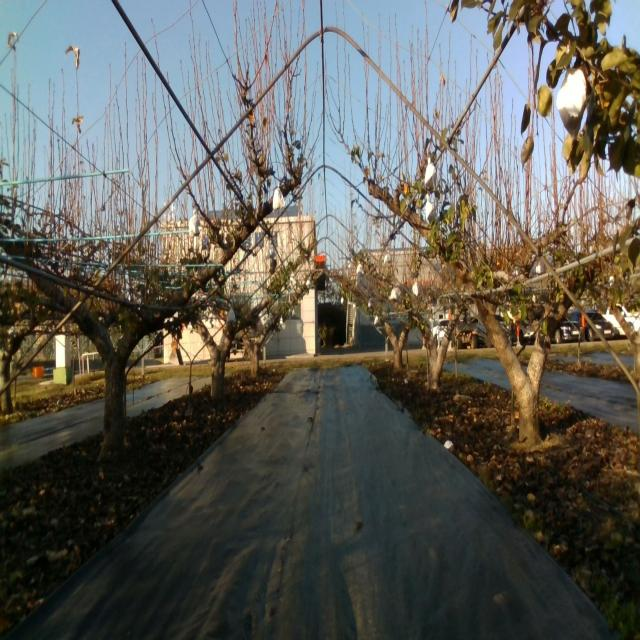pearbags: (554, 66, 590, 136), (424, 157, 438, 191), (188, 210, 202, 238), (272, 184, 286, 210), (424, 192, 435, 220)
